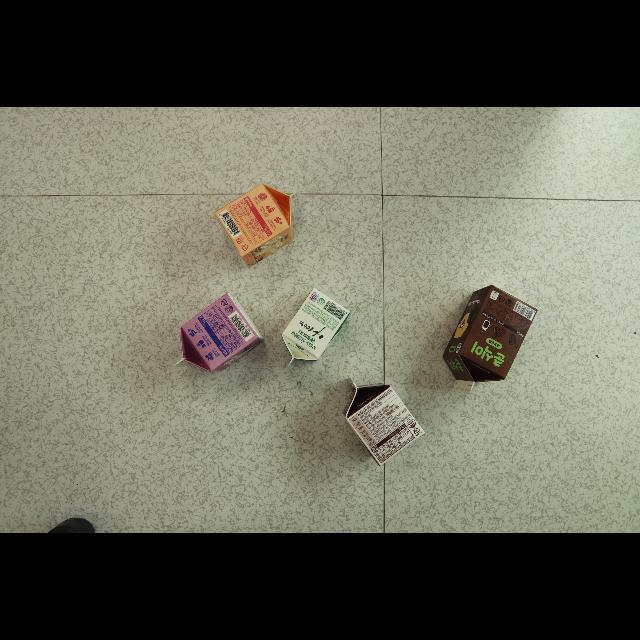milk: (443, 284, 539, 394), (346, 380, 425, 466), (214, 184, 294, 267), (180, 294, 263, 372), (283, 289, 350, 360)
